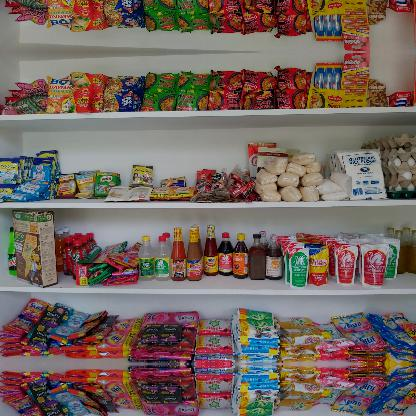Koko-Krunch: (11, 208, 60, 288)
